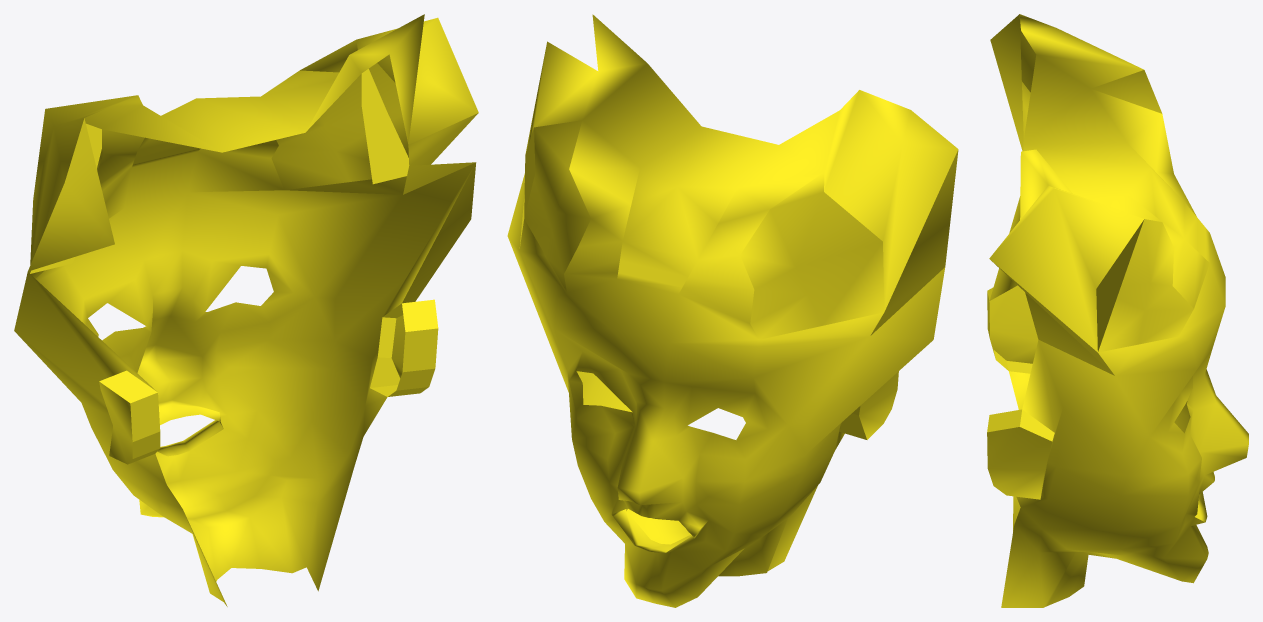
The model's file is SM_Y_Mask.fbx.
The picture shows the model from 3 angles, left to right: view 1: azimuth 30°, elevation 25°; view 2: azimuth 150°, elevation 25°; view 3: azimuth 270°, elevation 25°; orthographic projection. The views are drawn at different scales.
Visible parts, largest first — view 1: SM_Y_Mask; view 2: SM_Y_Mask; view 3: SM_Y_Mask.
Boxes of the visible parts, box(x1,y1,x2,y2) form: SM_Y_Mask: box(14, 14, 478, 606); SM_Y_Mask: box(507, 14, 958, 607); SM_Y_Mask: box(987, 14, 1248, 607).
Size of the model in its own units: 25.96 by 29.64 by 13.67.
